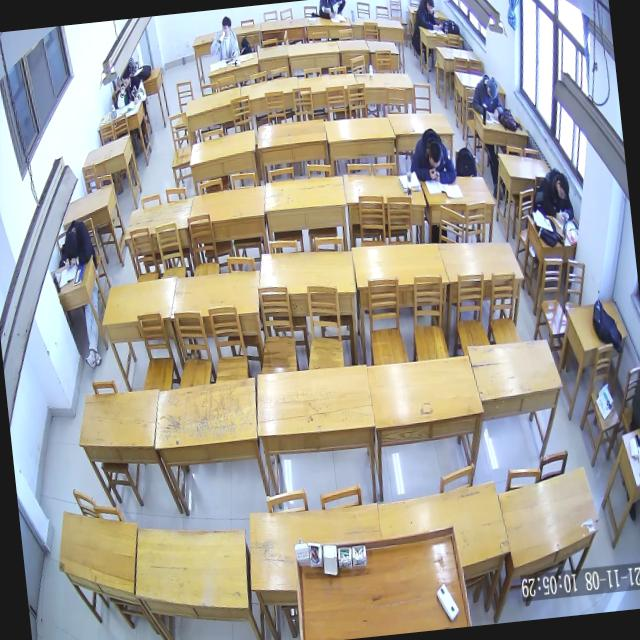bow: (406, 124, 457, 188), (59, 217, 98, 272)
down: (426, 140, 443, 168), (62, 230, 78, 258), (484, 76, 498, 100), (120, 68, 130, 88), (425, 0, 435, 15)
lookup: (221, 16, 232, 36)
sit: (468, 72, 504, 123), (207, 15, 240, 60), (413, 0, 442, 32)
